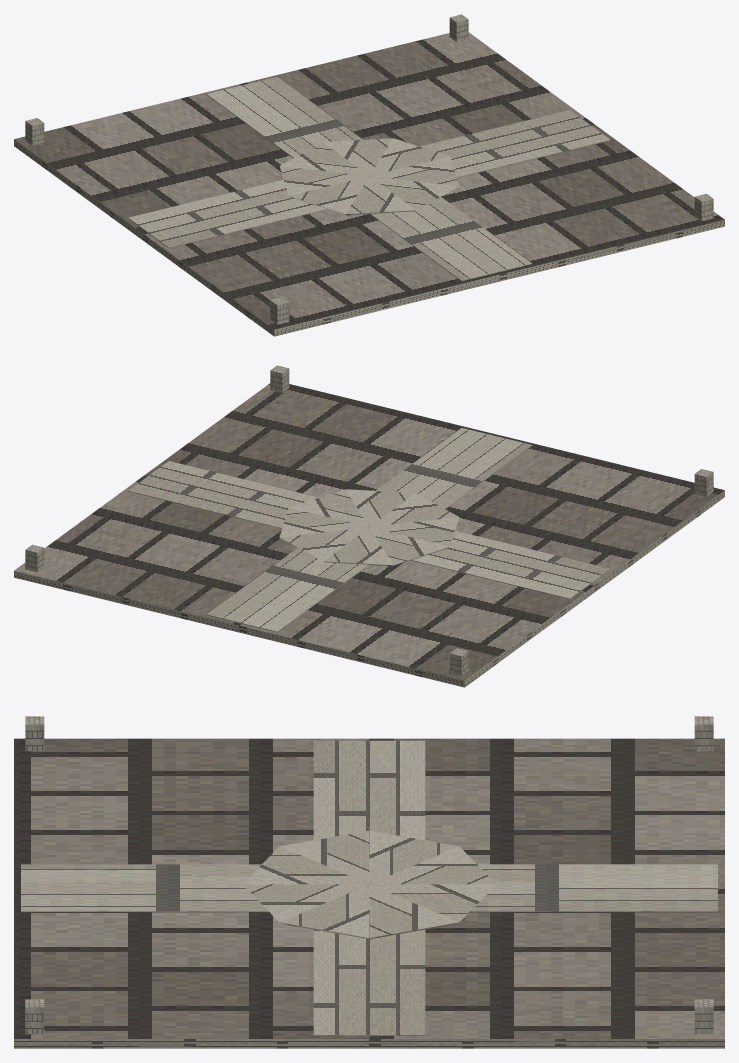
Rendered from praca_da_feira.glb.
3 renders of one model, top to bottom at view 1: azimuth 30°, elevation 25°; view 2: azimuth 150°, elevation 25°; view 3: azimuth 270°, elevation 25°, orthographic. The views are drawn at different scales.
Visible parts, largest first — view 1: Floor_Cobble_Plaza, Central_Fountain_Dais, Perimeter_Curbs; view 2: Floor_Cobble_Plaza, Central_Fountain_Dais, Perimeter_Curbs; view 3: Floor_Cobble_Plaza, Central_Fountain_Dais, Perimeter_Curbs.
Boxes of the visible parts, left/top/right/bottom form: Floor_Cobble_Plaza: left=14, top=32, right=724, bottom=336; Central_Fountain_Dais: left=279, top=138, right=459, bottom=215; Perimeter_Curbs: left=25, top=14, right=713, bottom=324; Floor_Cobble_Plaza: left=14, top=383, right=724, bottom=687; Central_Fountain_Dais: left=279, top=489, right=459, bottom=566; Perimeter_Curbs: left=25, top=365, right=713, bottom=675; Floor_Cobble_Plaza: left=14, top=738, right=724, bottom=1048; Central_Fountain_Dais: left=242, top=830, right=496, bottom=939; Perimeter_Curbs: left=25, top=716, right=713, bottom=1034.
Bounding box in the file's own units: 20.4 × 1.15 × 20.4.
Materials: 1 (1 with a texture image).
